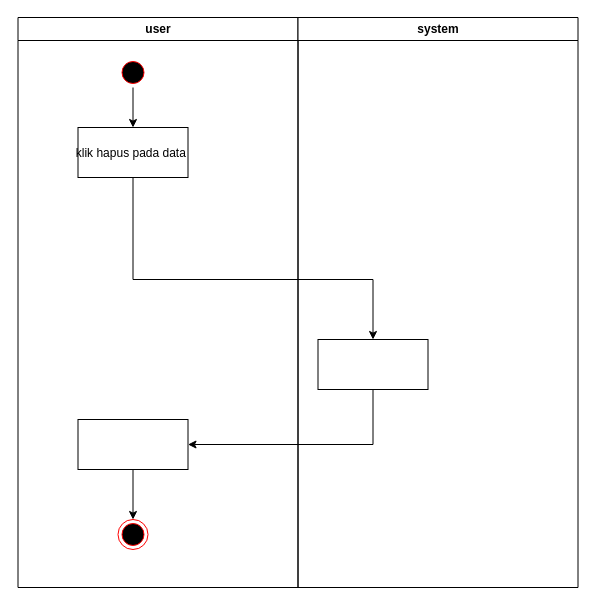
Image size: 595x605. Some labels were removed from this diagram. The shapes that lost their labels are listed below. From the top down, each one's centre as x and y in pixels, then its label:
the point at 372,364: menghapus data
the point at 132,444: halaman home
